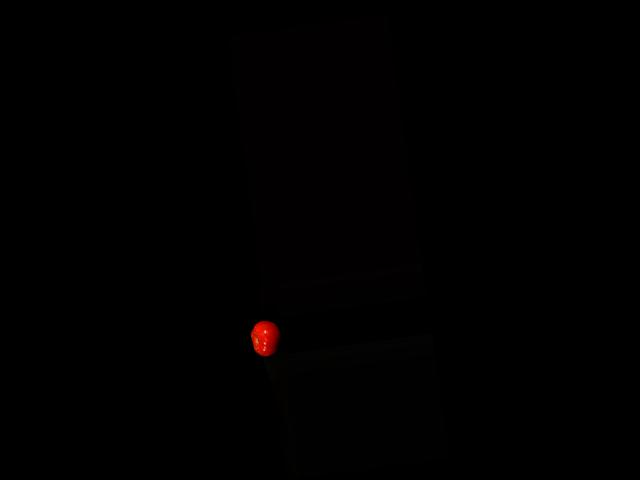tomato: (249, 317, 283, 357)
